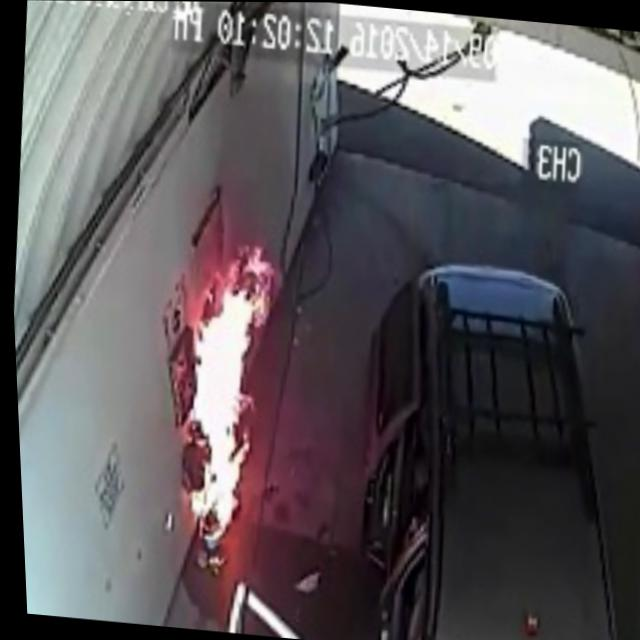fire: (153, 233, 293, 561)
